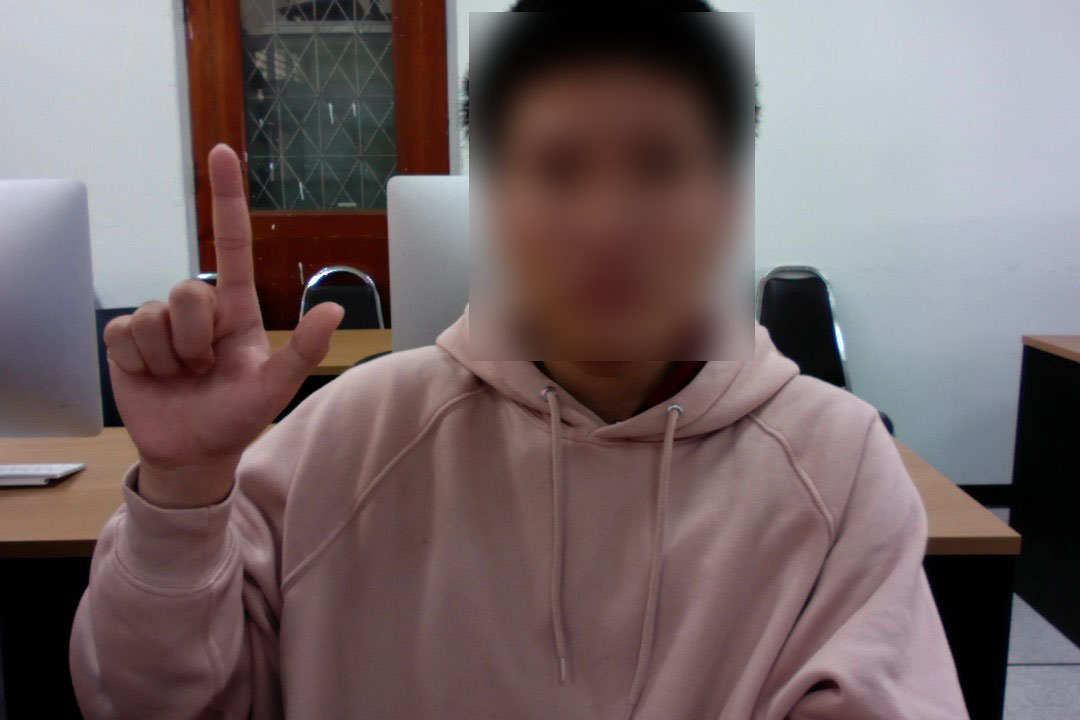lor: (78, 144, 364, 483)
